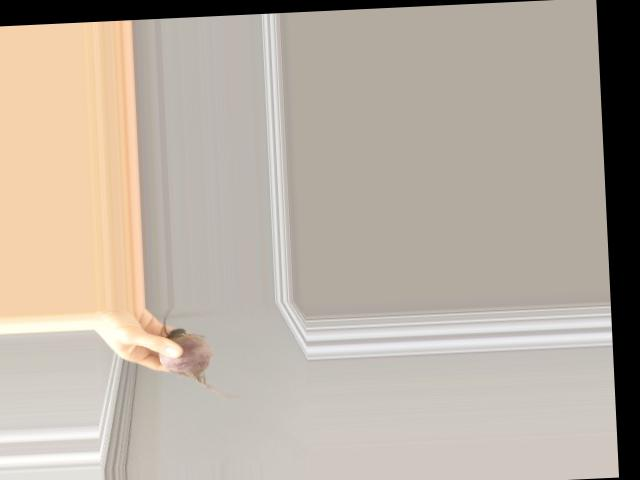beet: (157, 302, 241, 400)
